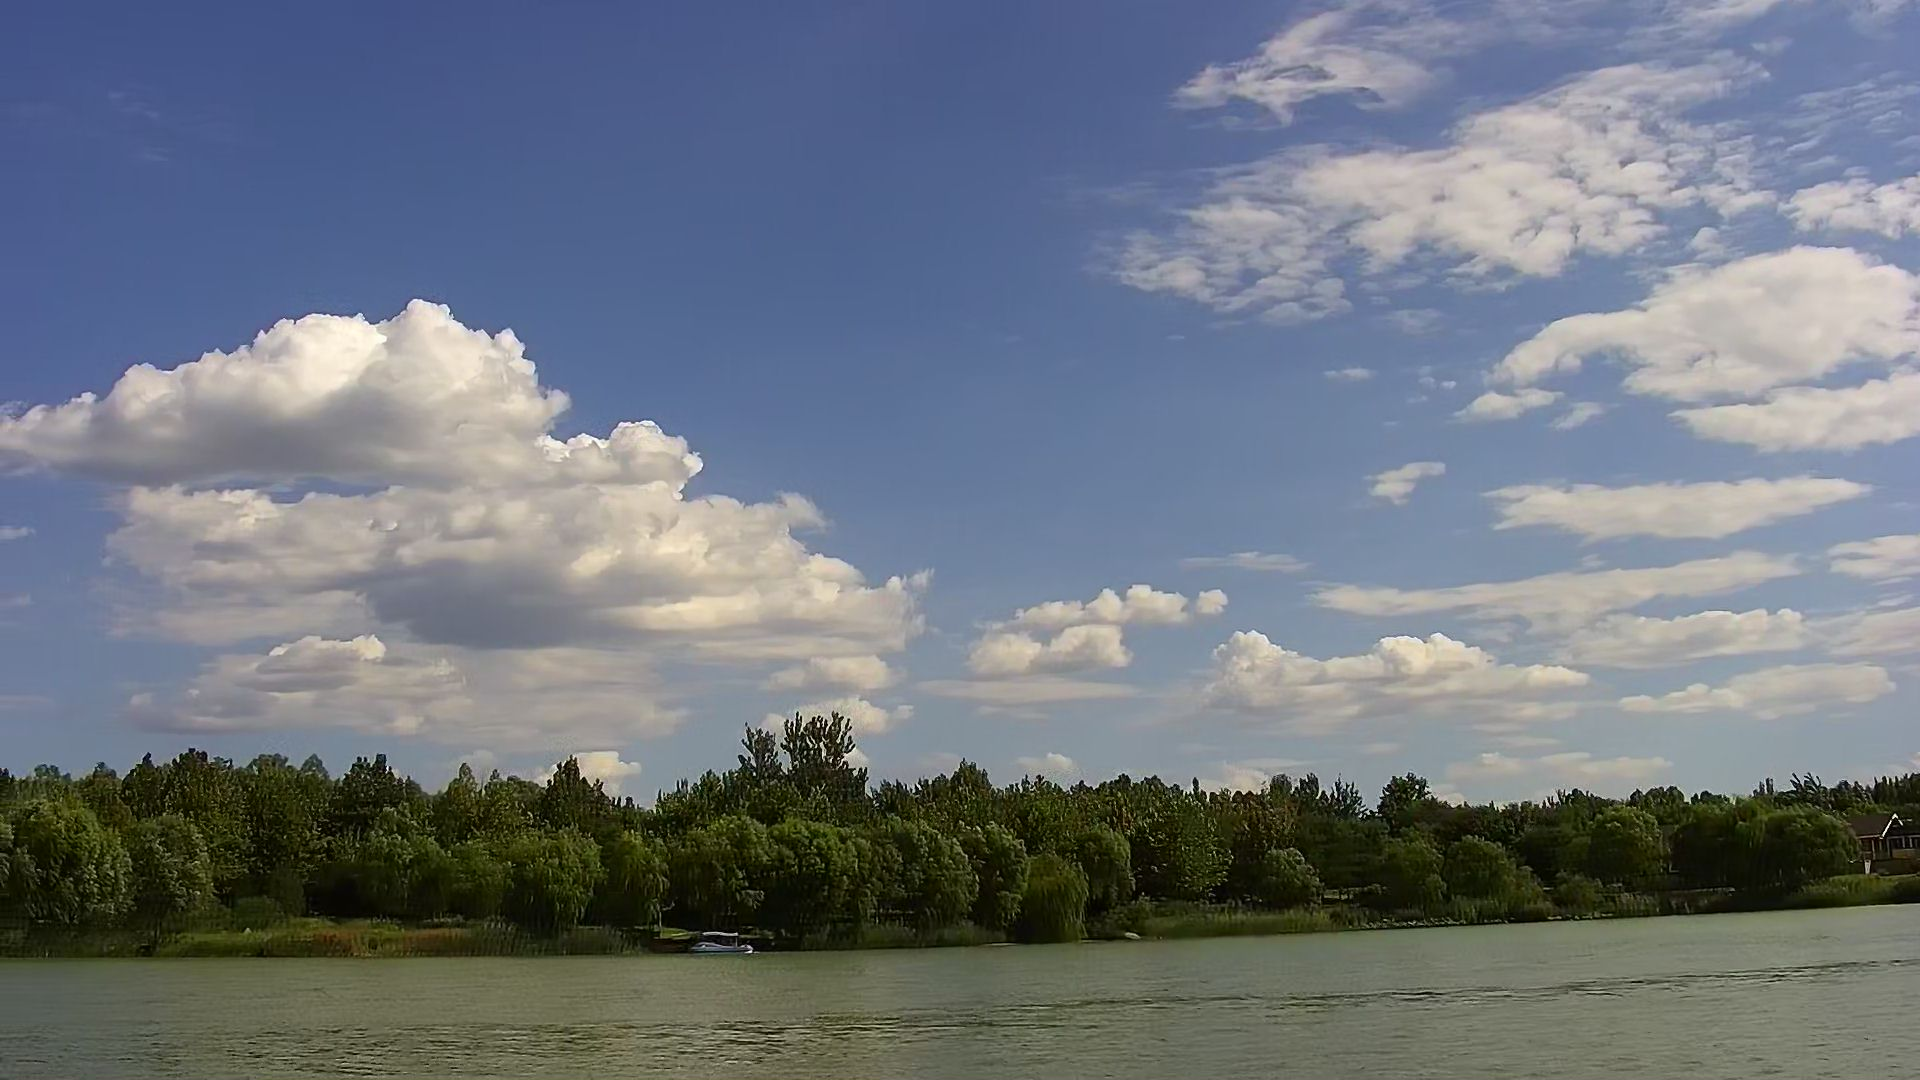boat: (688, 928, 757, 957)
